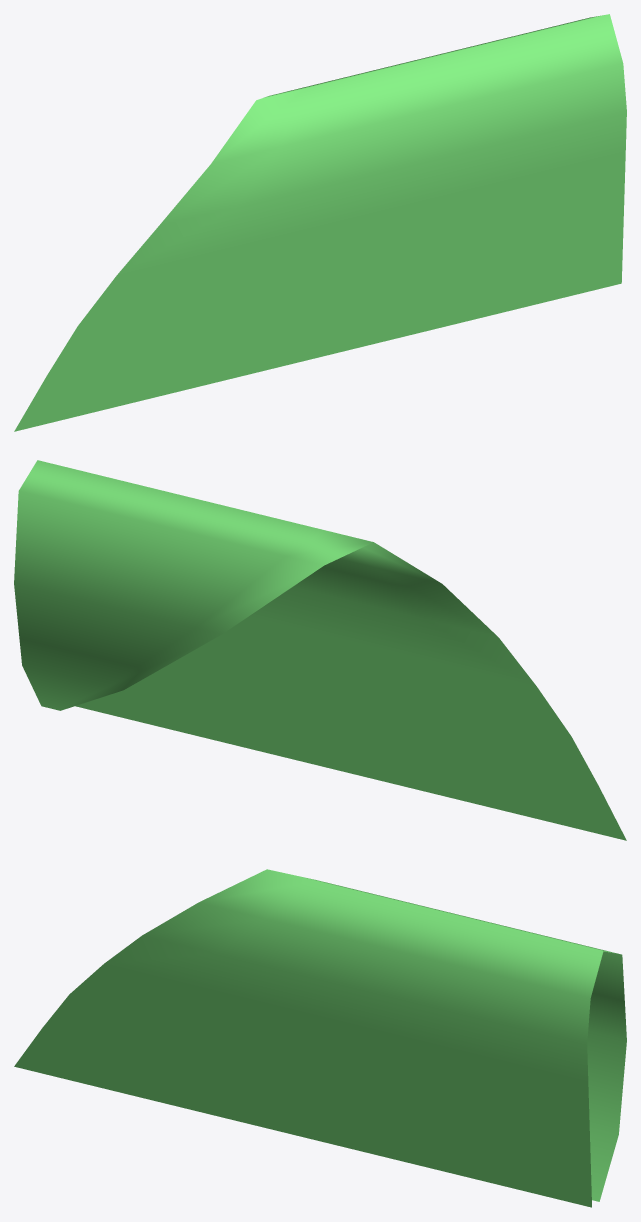
The model's file is Pinwheel_Wing_2.fbx.
3 renders of one model, top to bottom at view 1: azimuth 30°, elevation 25°; view 2: azimuth 150°, elevation 25°; view 3: azimuth 330°, elevation 25°, orthographic. The views are drawn at different scales.
Parts seen in each view (by area): view 1: Pinwheel_Wing_1; view 2: Pinwheel_Wing_1; view 3: Pinwheel_Wing_1.
Part boxes in pixels (<box>): Pinwheel_Wing_1: <box>14,14,626,431</box>; Pinwheel_Wing_1: <box>14,460,626,840</box>; Pinwheel_Wing_1: <box>14,869,626,1207</box>.
Size of the model in its own units: 130 by 53.31 by 15.44.
